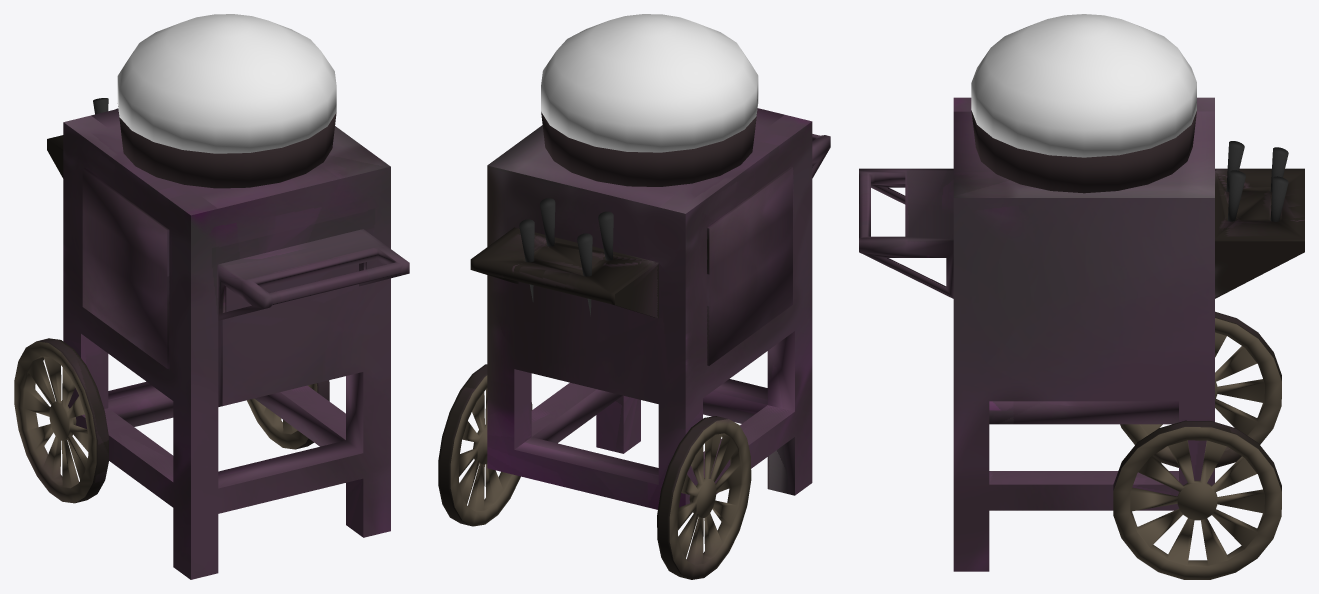
The model's file is hattarakone 1.fbx.
3 views of the same model, side by side, from view 1: azimuth 30°, elevation 25°; view 2: azimuth 150°, elevation 25°; view 3: azimuth 270°, elevation 25° (orthographic). The views are drawn at different scales.
Visible parts, largest first — view 1: hattarakone, LÄPINÄKYVÄ, hattarakone:01; view 2: hattarakone, LÄPINÄKYVÄ, hattarakone:01, TÖTTERÖITÄ; view 3: hattarakone, LÄPINÄKYVÄ, hattarakone:01, TÖTTERÖITÄ.
Part boxes in pixels (bbox=[...]): hattarakone: bbox=[14, 109, 409, 579]; LÄPINÄKYVÄ: bbox=[117, 14, 336, 153]; hattarakone:01: bbox=[118, 106, 336, 188]; hattarakone: bbox=[438, 108, 830, 579]; LÄPINÄKYVÄ: bbox=[541, 14, 758, 152]; hattarakone:01: bbox=[541, 111, 757, 186]; TÖTTERÖITÄ: bbox=[519, 198, 613, 316]; hattarakone: bbox=[859, 97, 1304, 579]; LÄPINÄKYVÄ: bbox=[971, 14, 1196, 157]; hattarakone:01: bbox=[971, 111, 1196, 193]; TÖTTERÖITÄ: bbox=[1226, 141, 1288, 221].
Size of the model in its own units: 0.7071 by 1.4 by 1.14.
Materials: 4 (1 with a texture image).
